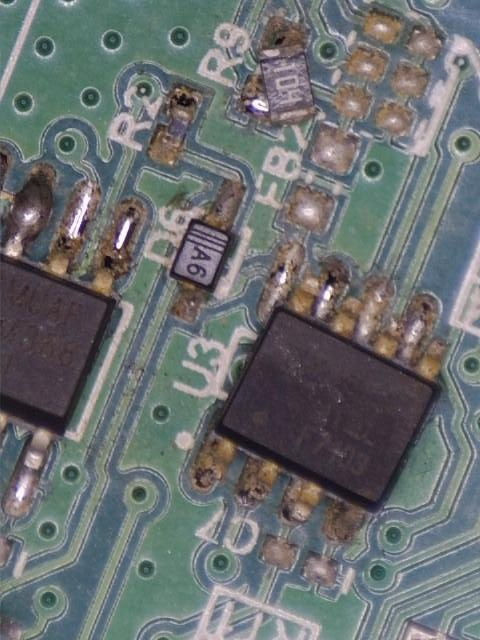pcb_defect: (188, 239, 446, 542), (234, 18, 316, 131)
